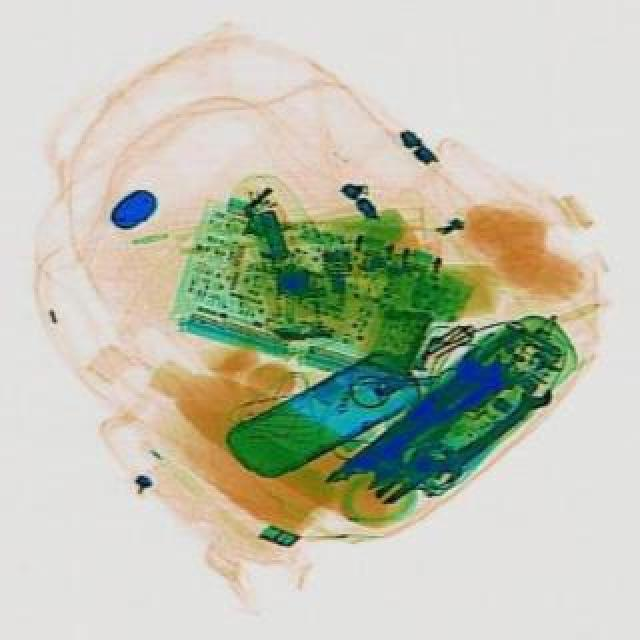scissors: (340, 336, 516, 496), (428, 376, 562, 488)
